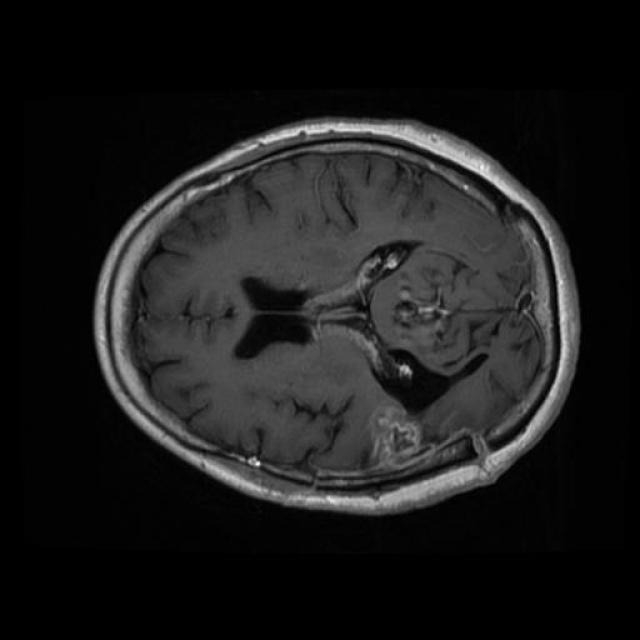Glioma: (347, 409, 486, 487)
